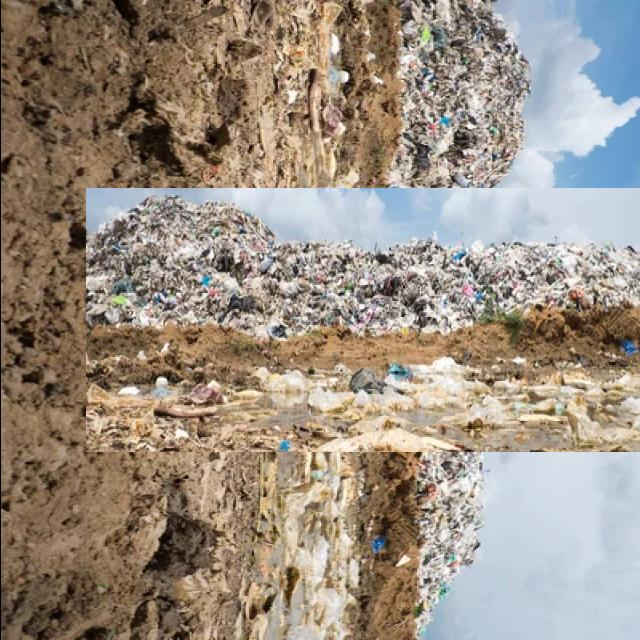garbage: (179, 94, 631, 546)
